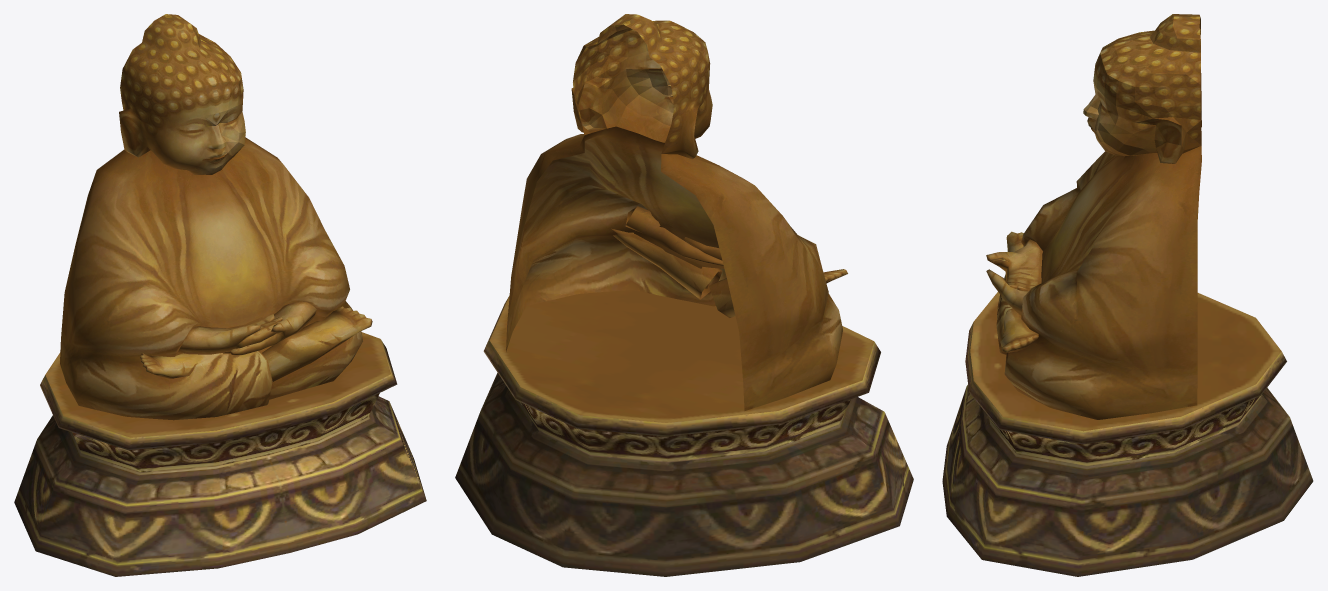
The model's file is q01c_building_025.FBX.
3 renders of one model, left to right at view 1: azimuth 30°, elevation 25°; view 2: azimuth 150°, elevation 25°; view 3: azimuth 270°, elevation 25°, orthographic. The views are drawn at different scales.
Parts seen in each view (by area): view 1: q01c_building_022_01; view 2: q01c_building_022_01; view 3: q01c_building_022_01.
Boxes of the visible parts, x1,y1,x2,y2 form: q01c_building_022_01: [14, 14, 426, 576]; q01c_building_022_01: [455, 14, 913, 576]; q01c_building_022_01: [942, 14, 1313, 576].
Size of the model in its own units: 483 by 546 by 395.
